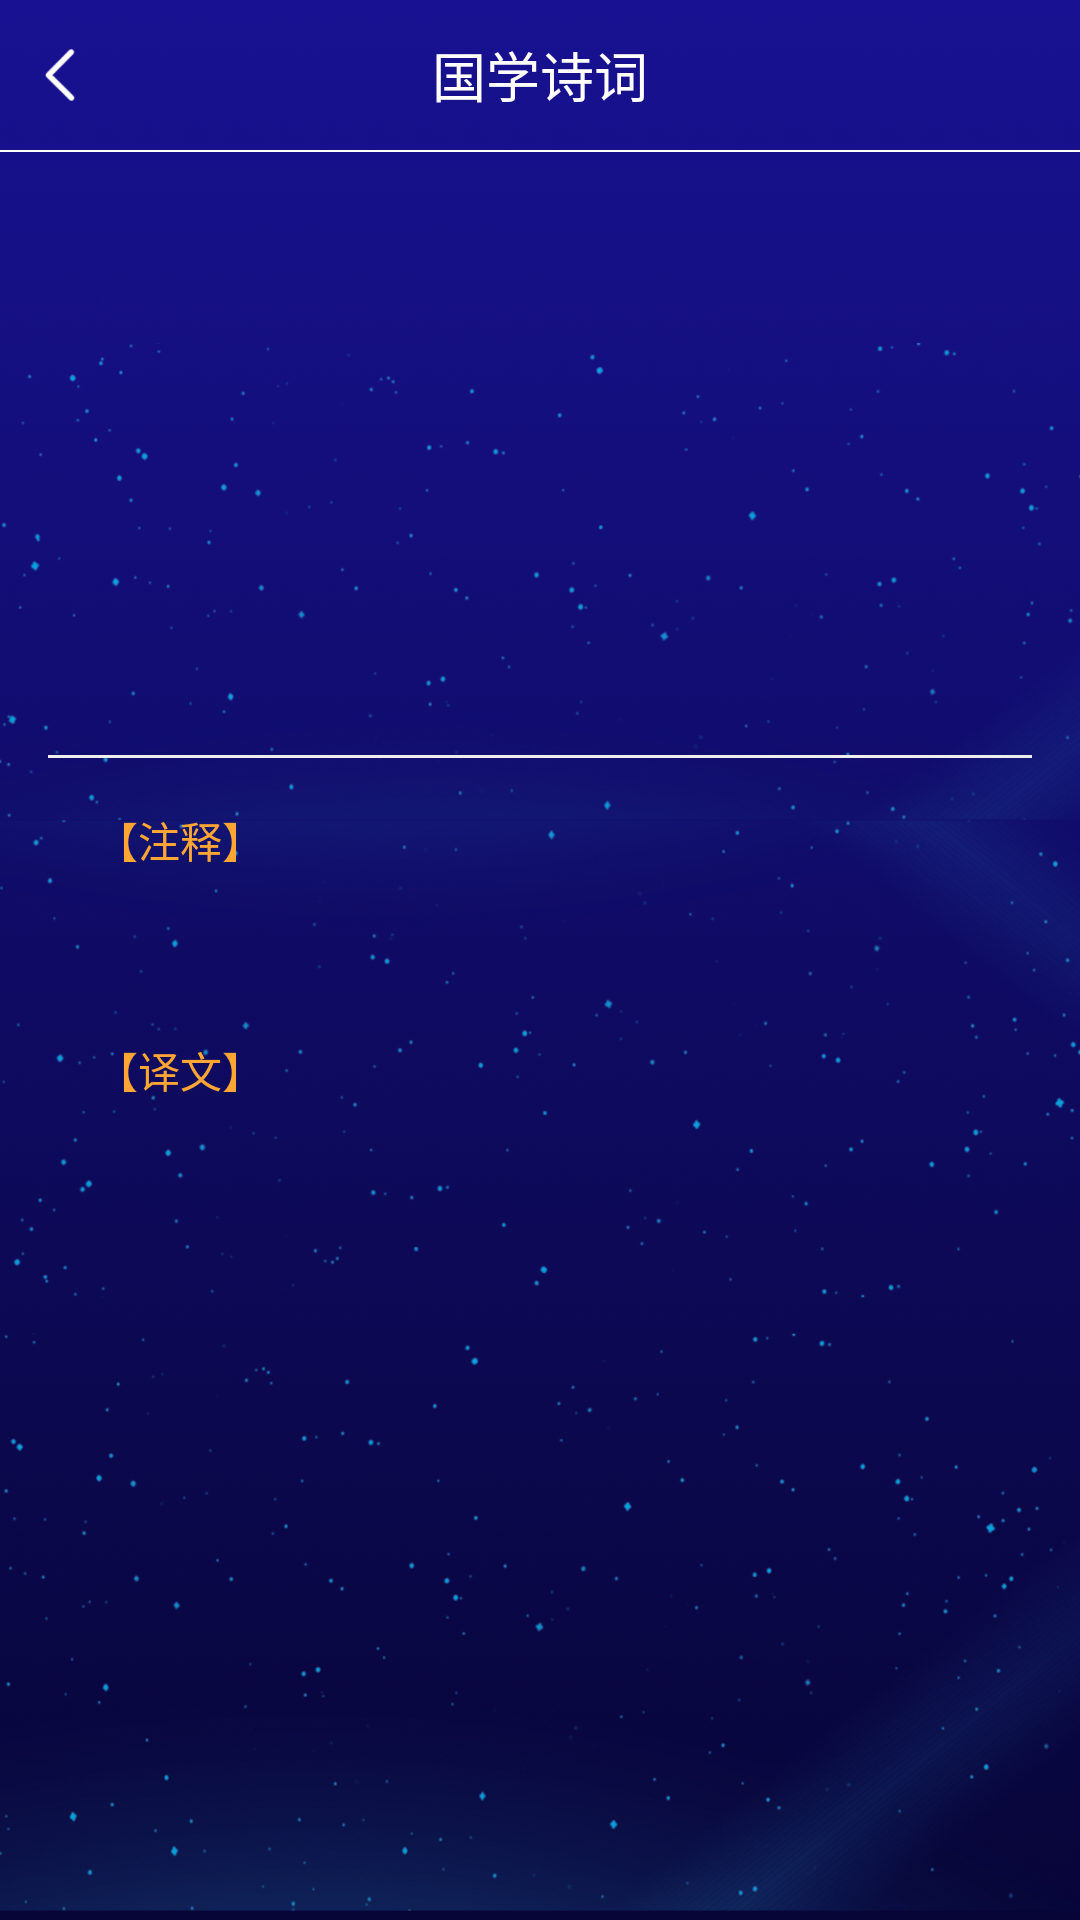

Screen size 1080 x 1920. Icon name, then its center in pixels as [x,y]:
back: [60,75]
